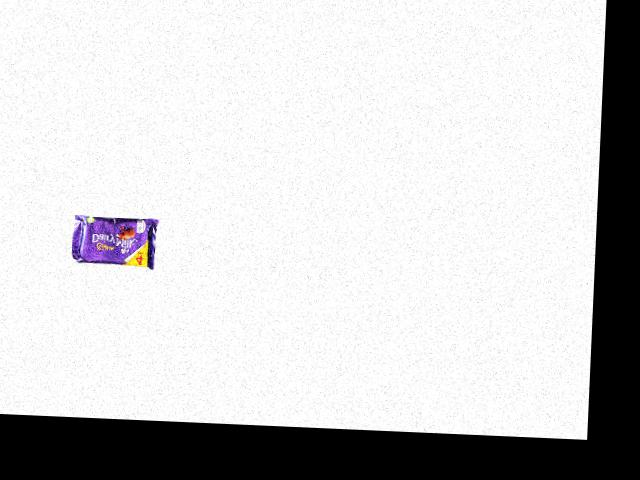chocolate: (68, 208, 168, 269)
